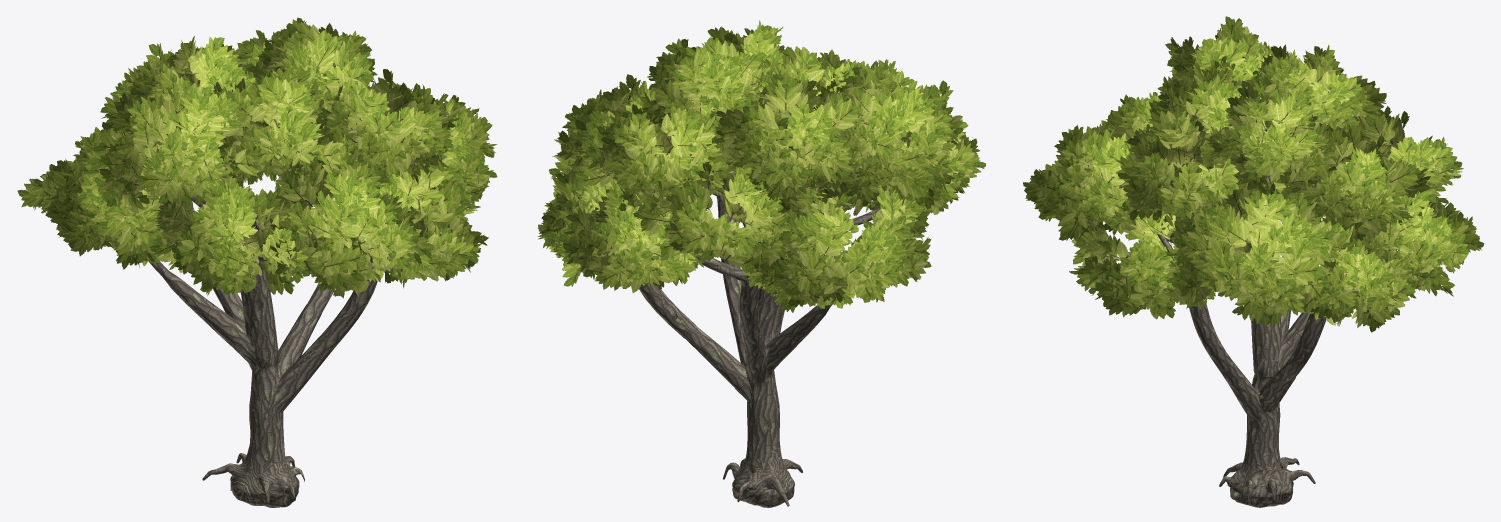
Rendered from environment_elm5_v31.fbx.
3 renders of one model, left to right at view 1: azimuth 30°, elevation 25°; view 2: azimuth 150°, elevation 25°; view 3: azimuth 270°, elevation 25°, orthographic. The views are drawn at different scales.
Visible parts, largest first — view 1: environment_elm5_v31_leaves, environment_elm5_v31_wood; view 2: environment_elm5_v31_leaves, environment_elm5_v31_wood; view 3: environment_elm5_v31_leaves, environment_elm5_v31_wood.
Part boxes in pixels (x1,y1,x2,y2): environment_elm5_v31_leaves: (17, 17, 497, 298); environment_elm5_v31_wood: (148, 73, 383, 507); environment_elm5_v31_leaves: (538, 20, 985, 312); environment_elm5_v31_wood: (639, 133, 912, 507); environment_elm5_v31_leaves: (1023, 16, 1484, 332); environment_elm5_v31_wood: (1103, 56, 1432, 507).
Size of the model in its own units: 2593 by 2869 by 2768.
2 materials, 2 textured.
